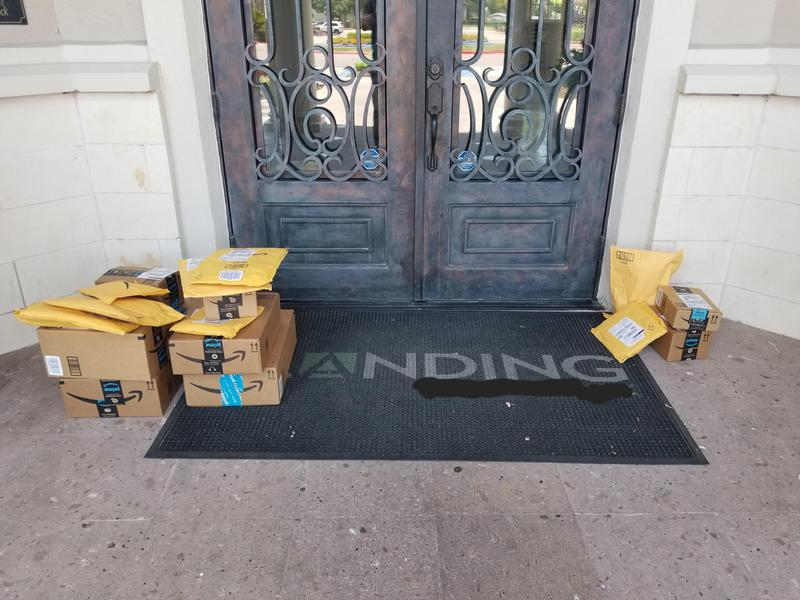package: (33, 327, 163, 382), (586, 294, 670, 370), (606, 240, 685, 317), (190, 238, 289, 294), (39, 291, 181, 329), (11, 303, 140, 344), (163, 336, 275, 381), (176, 373, 293, 412), (56, 379, 171, 417), (658, 280, 724, 335), (77, 272, 171, 309), (171, 312, 263, 338), (198, 294, 263, 322), (667, 331, 716, 363)
